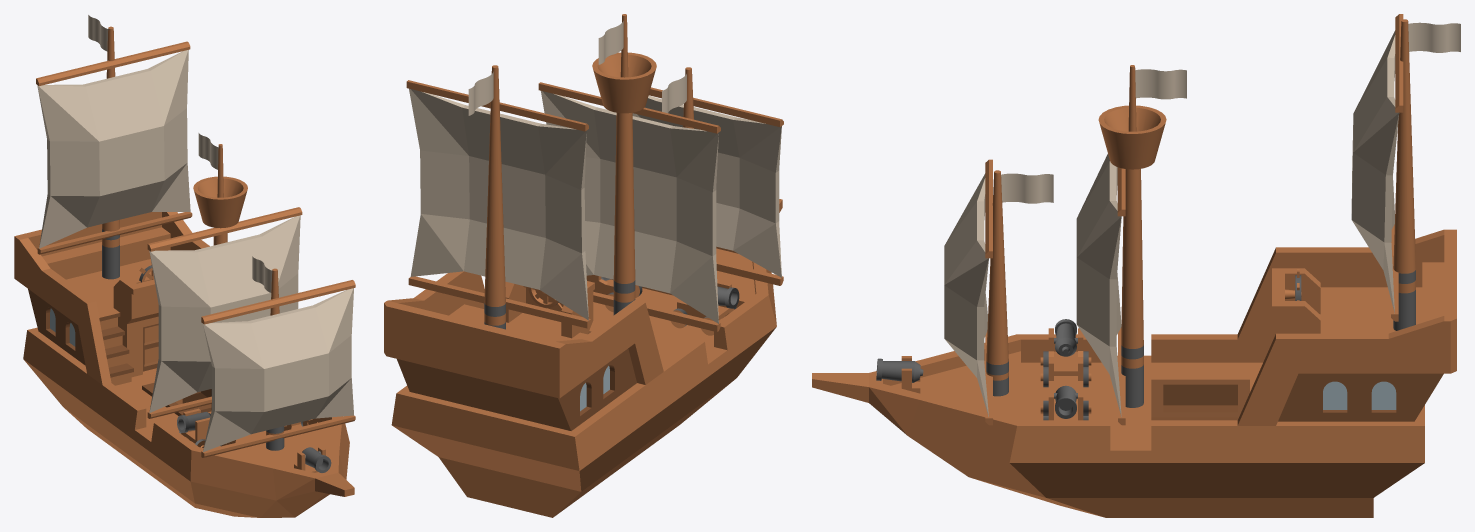
Rendered from boat2.glb.
The picture shows the model from 3 angles, left to right: view 1: azimuth 30°, elevation 25°; view 2: azimuth 150°, elevation 25°; view 3: azimuth 270°, elevation 25°; orthographic projection. The views are drawn at different scales.
Visible parts, largest first — view 1: mergedBlocks(Clone); view 2: mergedBlocks(Clone); view 3: mergedBlocks(Clone).
Boxes of the visible parts, x1,y1,x2,y2 form: mergedBlocks(Clone): (14,15,355,517); mergedBlocks(Clone): (384,14,783,517); mergedBlocks(Clone): (812,14,1460,517).
Bounding box in the file's own units: 5.7 × 13.09 × 16.2.
